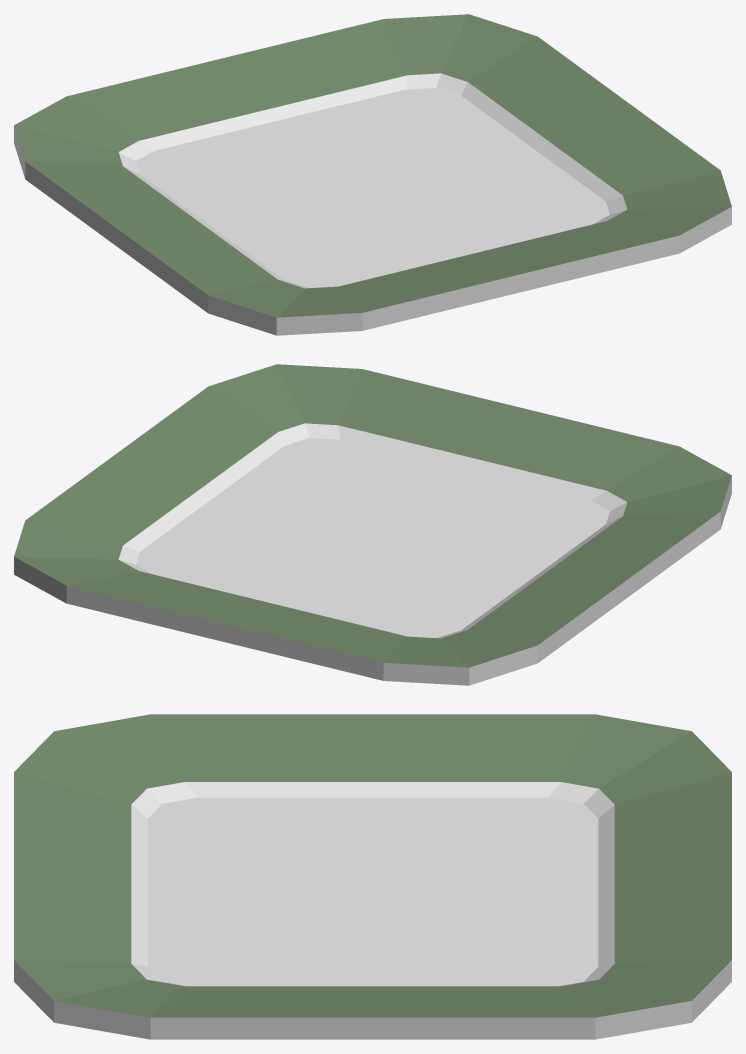
File: R_Plate_Dish_2.fbx
The picture shows the model from 3 angles, top to bottom: view 1: azimuth 30°, elevation 25°; view 2: azimuth 150°, elevation 25°; view 3: azimuth 270°, elevation 25°; orthographic projection. The views are drawn at different scales.
Parts seen in each view (by area): view 1: R_Plate_Dish_2; view 2: R_Plate_Dish_2; view 3: R_Plate_Dish_2.
Boxes of the visible parts, x1=… form: R_Plate_Dish_2: x1=14, y1=14, x2=731, y2=335; R_Plate_Dish_2: x1=14, y1=364, x2=731, y2=685; R_Plate_Dish_2: x1=14, y1=714, x2=731, y2=1039.
Size of the model in its own units: 200 by 200 by 16.68.
